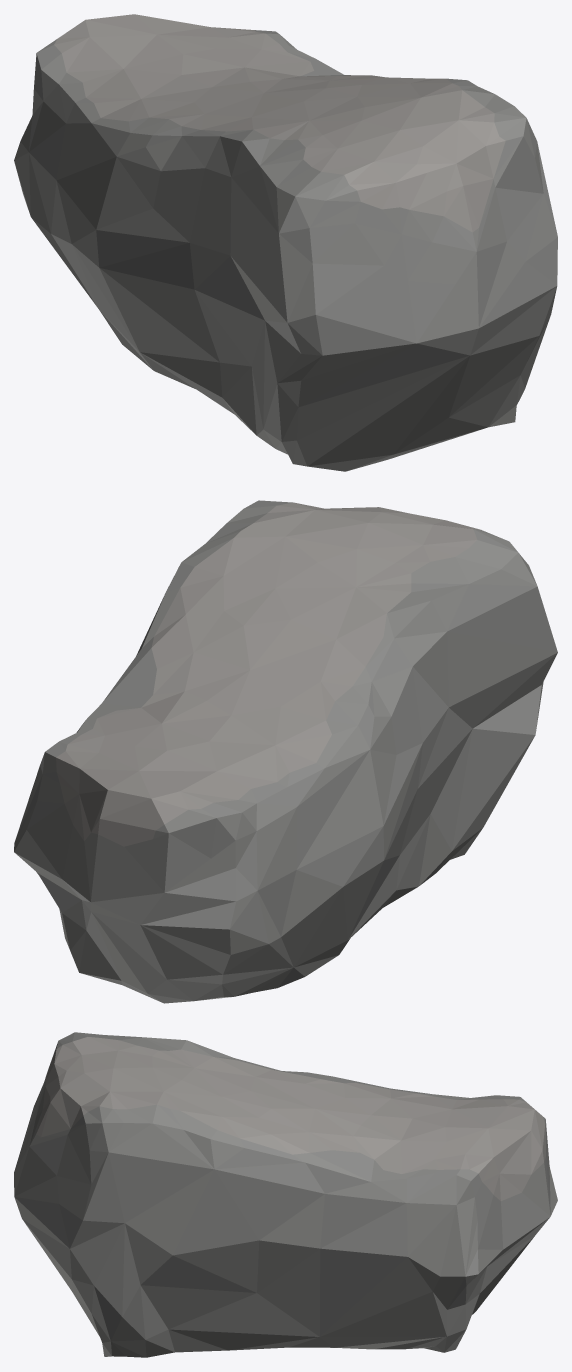
File: Cavern_Floor_Narrow_Ramp_Sml-02.fbx
3 renders of one model, top to bottom at view 1: azimuth 30°, elevation 25°; view 2: azimuth 150°, elevation 25°; view 3: azimuth 270°, elevation 25°, orthographic. The views are drawn at different scales.
Parts seen in each view (by area): view 1: Cavern_Floor_Narrow_Ramp_Sml-02; view 2: Cavern_Floor_Narrow_Ramp_Sml-02; view 3: Cavern_Floor_Narrow_Ramp_Sml-02.
Boxes of the visible parts, x1,y1,x2,y2 form: Cavern_Floor_Narrow_Ramp_Sml-02: (14,14,557,471); Cavern_Floor_Narrow_Ramp_Sml-02: (14,500,557,1003); Cavern_Floor_Narrow_Ramp_Sml-02: (14,1032,557,1357).
Bounding box in the file's own units: 621 × 643 × 1184.
1 material, 1 textured.
